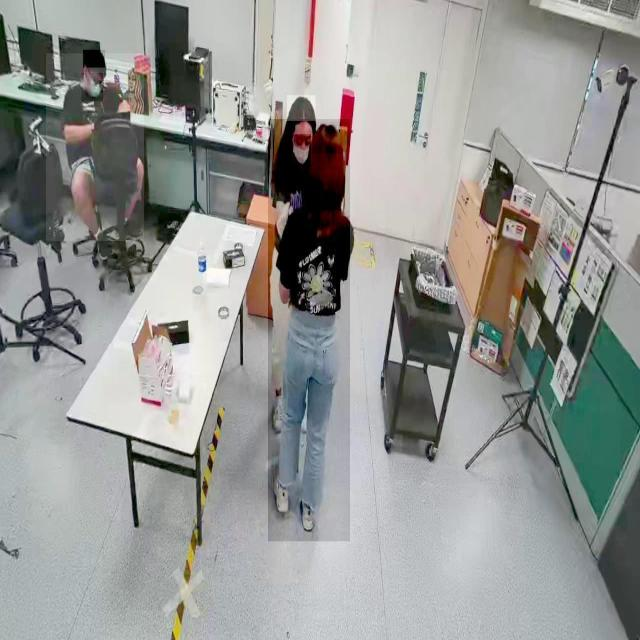face_mask: (289, 134, 311, 168), (82, 73, 104, 102)
head_nohelmet: (309, 122, 343, 154), (287, 95, 316, 122), (83, 50, 105, 68)
person: (268, 119, 350, 542), (46, 53, 144, 242)
shoes: (117, 204, 145, 246), (268, 382, 288, 432), (298, 489, 319, 535), (271, 470, 290, 520), (92, 220, 111, 265)
